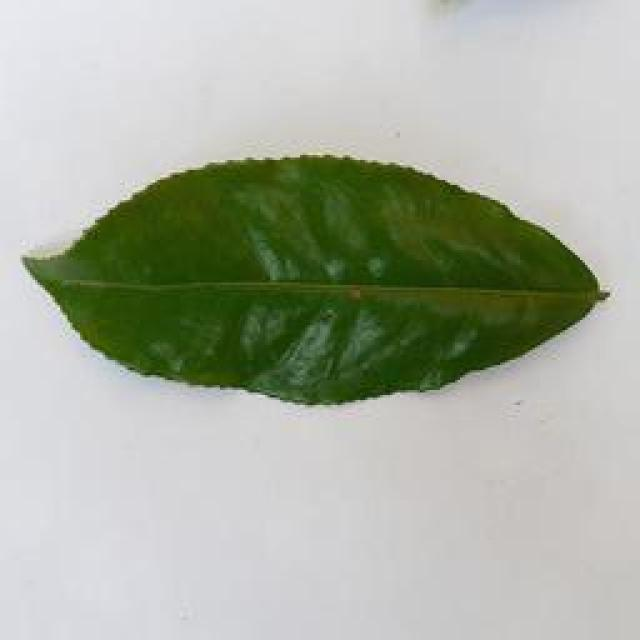Healthy: (0, 151, 618, 402)
